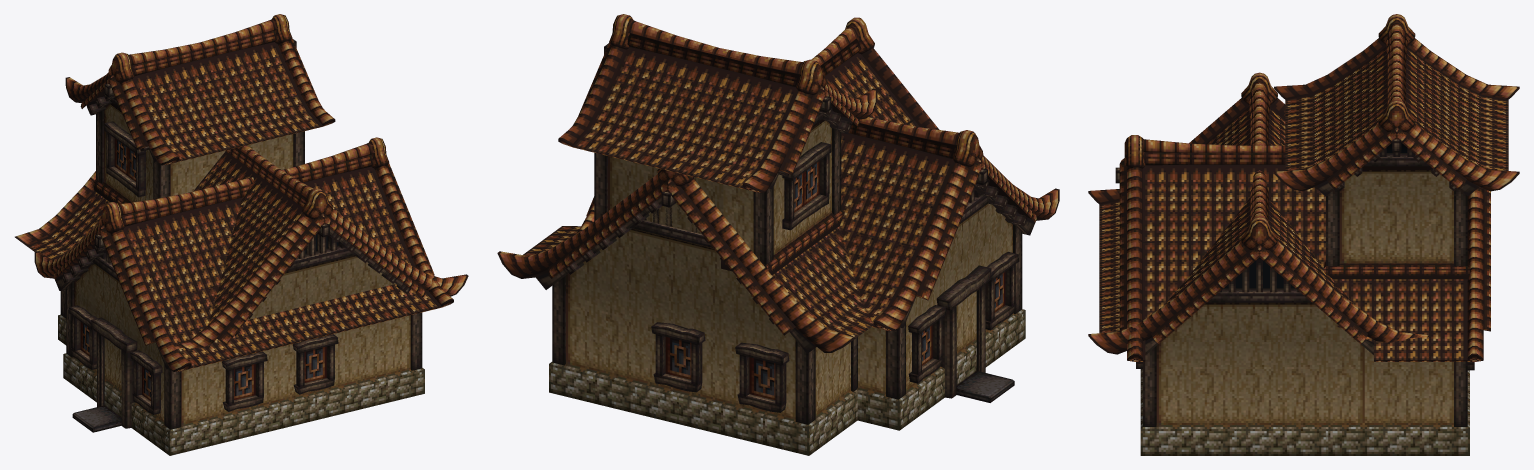
Rendered from EnvBdgMD_Desert_A_Outdoor_House_Pub_A.FBX.
3 renders of one model, left to right at view 1: azimuth 30°, elevation 25°; view 2: azimuth 150°, elevation 25°; view 3: azimuth 270°, elevation 25°, orthographic. The views are drawn at different scales.
Visible parts, largest first — view 1: EnvBdgMD_Desert_A_Outdoor_House_Pub_A; view 2: EnvBdgMD_Desert_A_Outdoor_House_Pub_A; view 3: EnvBdgMD_Desert_A_Outdoor_House_Pub_A.
Part boxes in pixels (x1=…): EnvBdgMD_Desert_A_Outdoor_House_Pub_A: x1=15, y1=14, x2=468, y2=455; EnvBdgMD_Desert_A_Outdoor_House_Pub_A: x1=497, y1=14, x2=1059, y2=455; EnvBdgMD_Desert_A_Outdoor_House_Pub_A: x1=1088, y1=14, x2=1519, y2=455.
Bounding box in the file's own units: 929 × 814 × 944.
